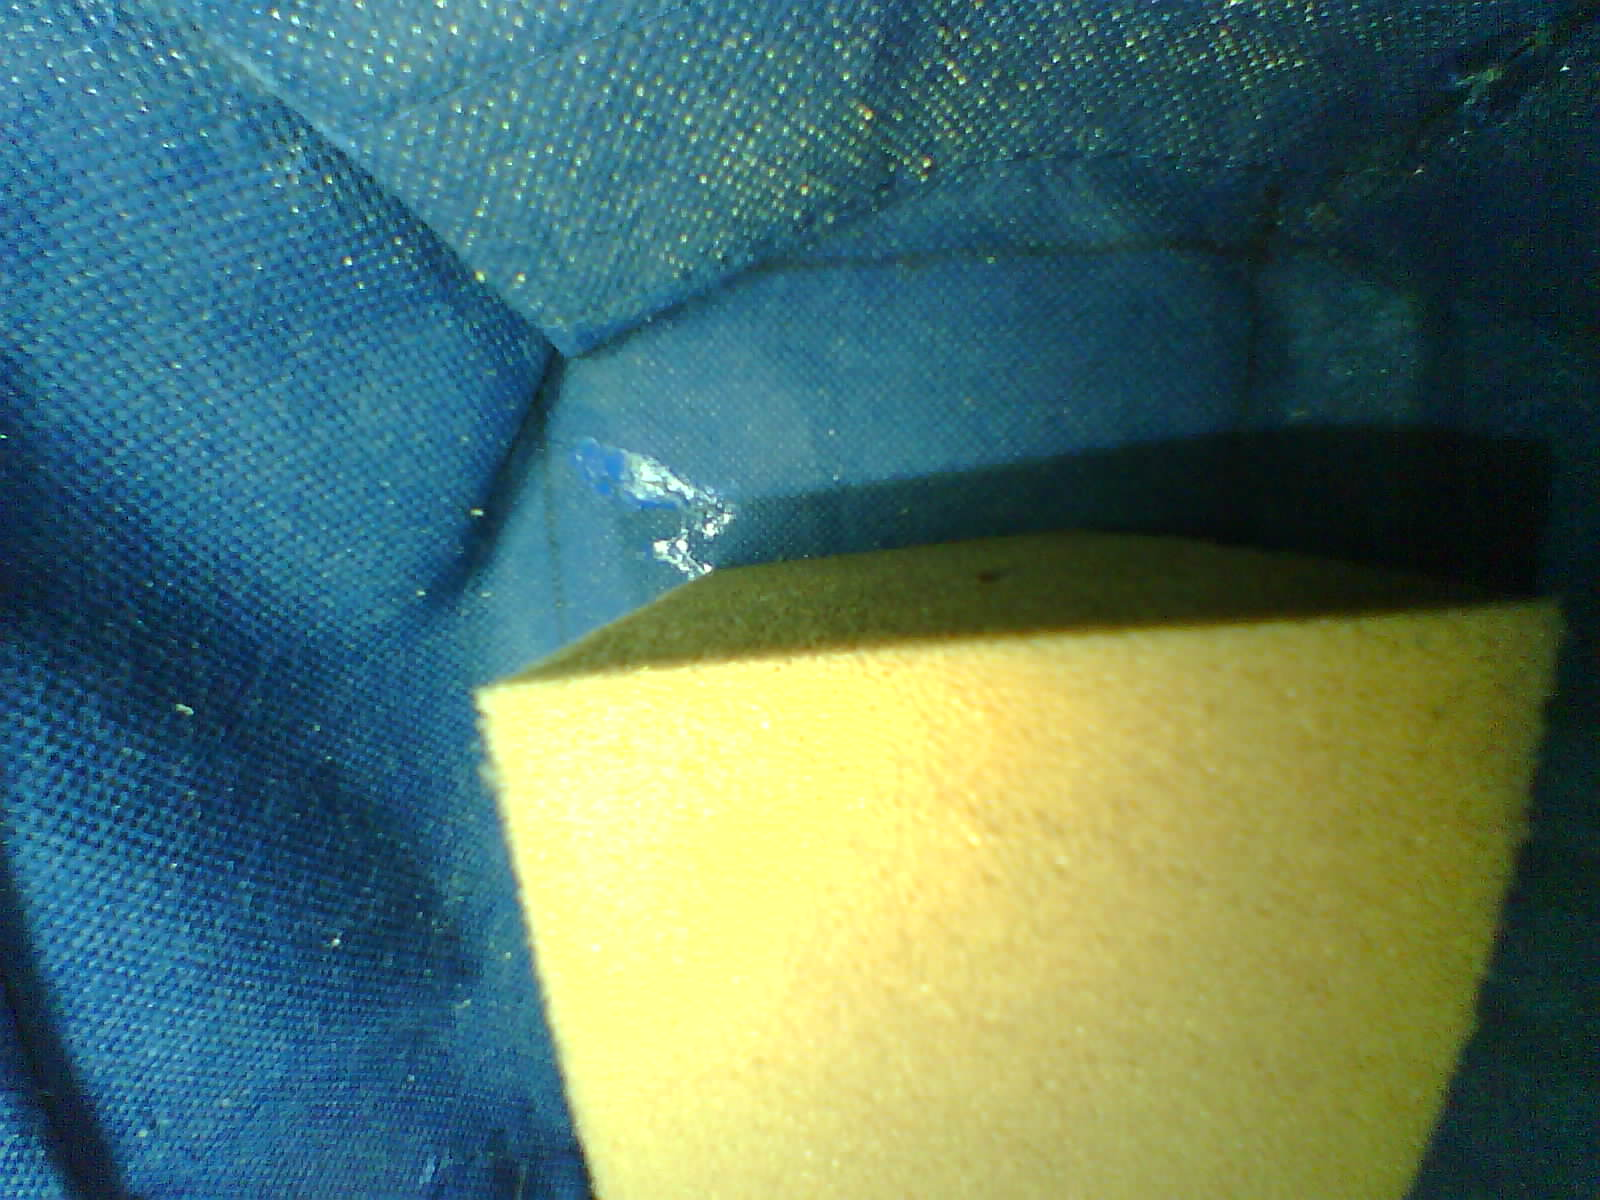cube-soft: (443, 527, 1576, 1200)
